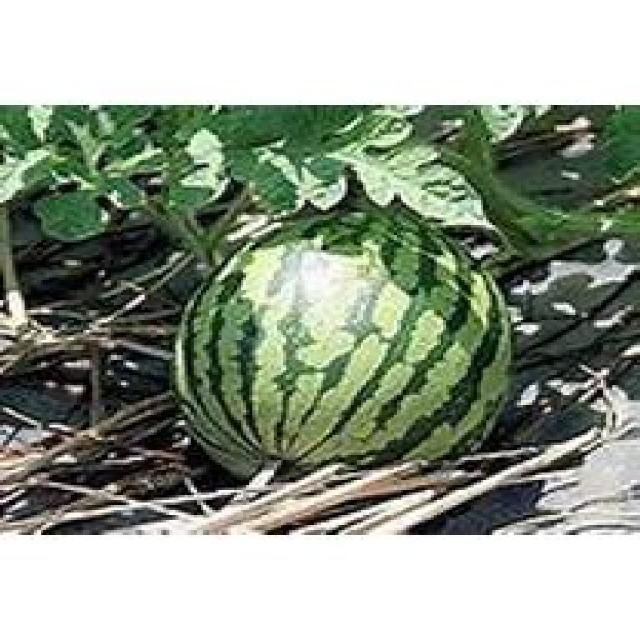watermelon: (175, 163, 510, 479)
